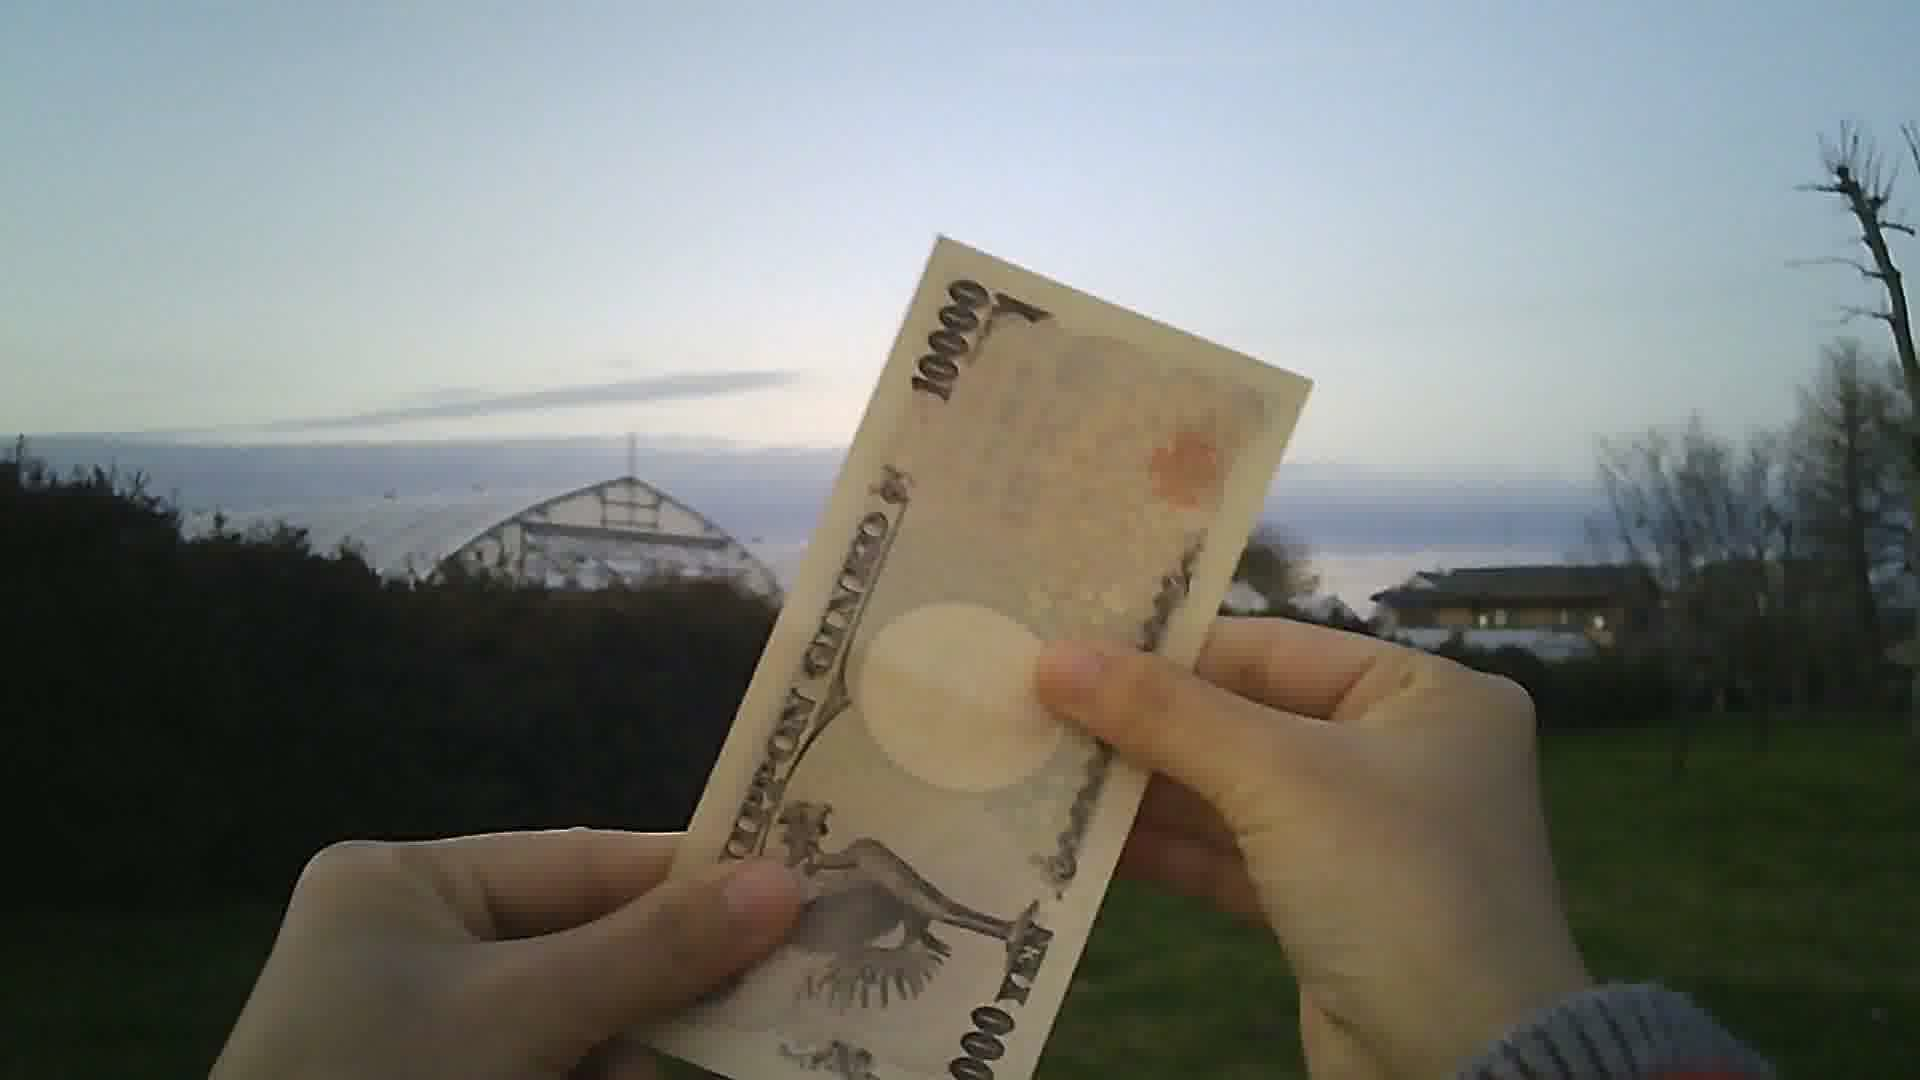10,000 Yen: (632, 204, 1331, 1079)
